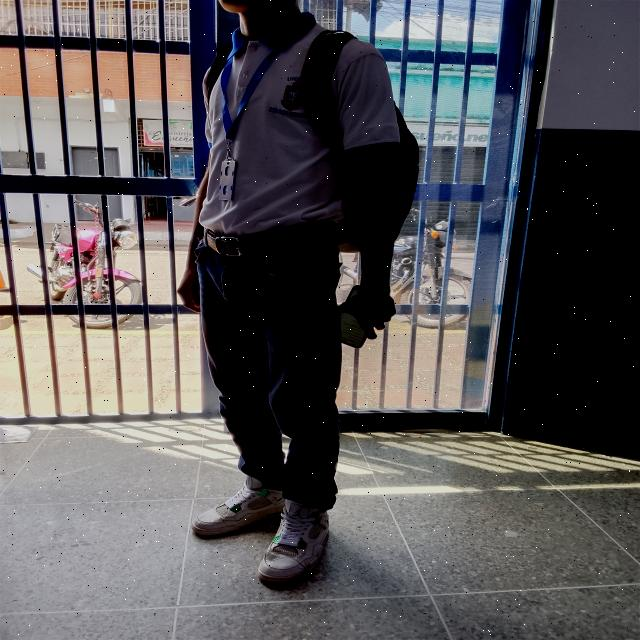carnet: (217, 160, 237, 201)
uniforme_superior: (198, 11, 402, 237)
